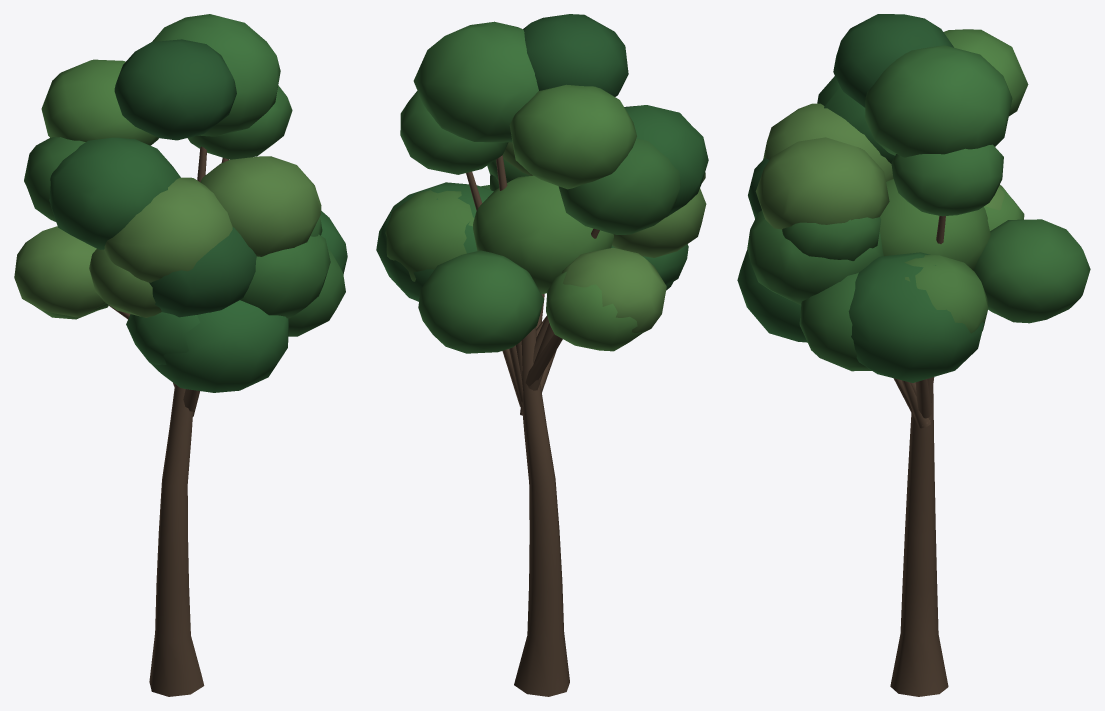
The model's file is tree_clump_tall.glb.
3 renders of one model, left to right at view 1: azimuth 30°, elevation 25°; view 2: azimuth 150°, elevation 25°; view 3: azimuth 270°, elevation 25°, orthographic.
Visible parts, largest first — view 1: crown, trunk; view 2: crown, trunk; view 3: crown, trunk.
Boxes of the visible parts, x1,y1,x2,y2 form: crown: (14, 14, 347, 392); trunk: (109, 146, 228, 696); crown: (376, 14, 708, 353); trunk: (466, 155, 599, 696); crown: (737, 14, 1090, 382); trunk: (890, 216, 948, 696).
Size of the model in its own units: 3.33 by 7.02 by 3.39.
